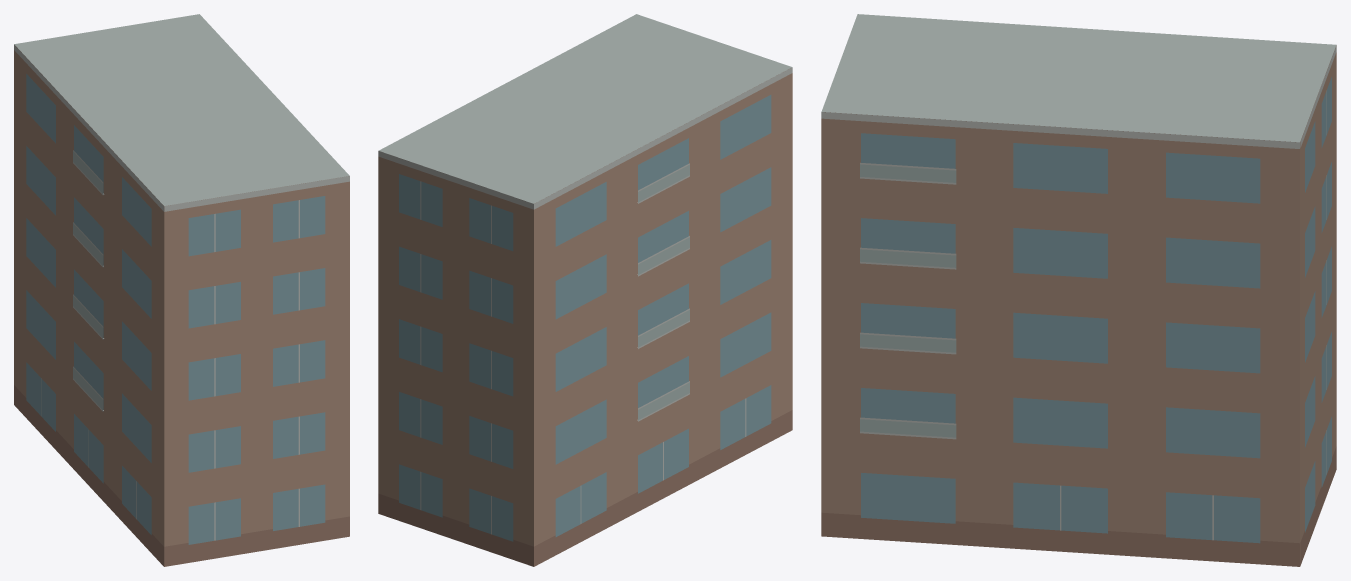
The model's file is survey-upis-32971423.glb.
3 renders of one model, left to right at view 1: azimuth 30°, elevation 25°; view 2: azimuth 150°, elevation 25°; view 3: azimuth 270°, elevation 25°, orthographic. The views are drawn at different scales.
Parts seen in each view (by area): view 1: survey-upis-32971423.tmp; view 2: survey-upis-32971423.tmp; view 3: survey-upis-32971423.tmp.
Part boxes in pixels (x1,y1,x2,y2): survey-upis-32971423.tmp: (14, 14, 349, 566); survey-upis-32971423.tmp: (378, 14, 792, 566); survey-upis-32971423.tmp: (821, 14, 1336, 566).
Bounding box in the file's own units: 9.9 × 15.25 × 16.78.
